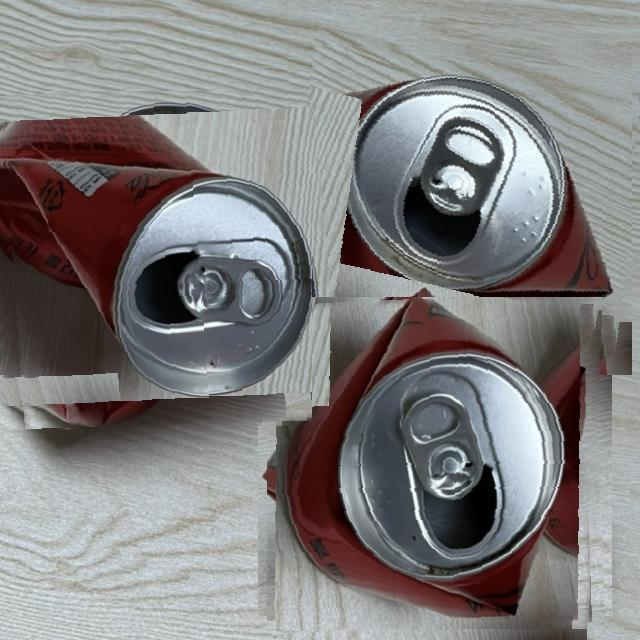recyclable: (269, 43, 632, 375), (267, 297, 603, 631), (0, 91, 312, 429)
